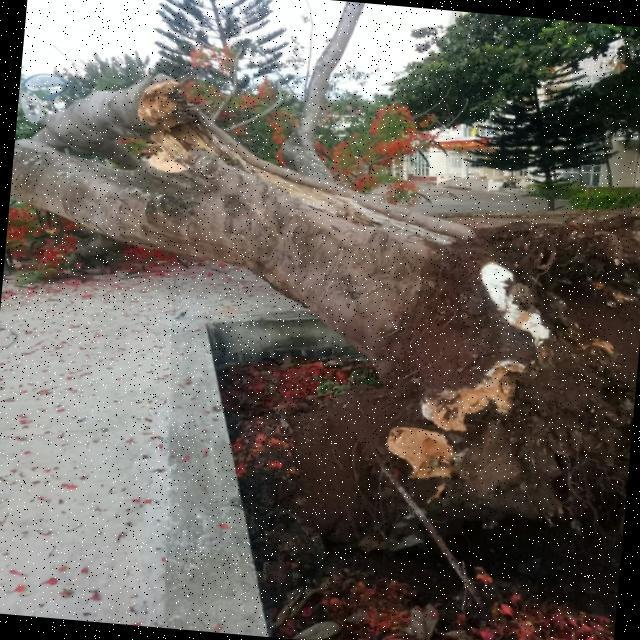fallen_object: (24, 61, 640, 538)
